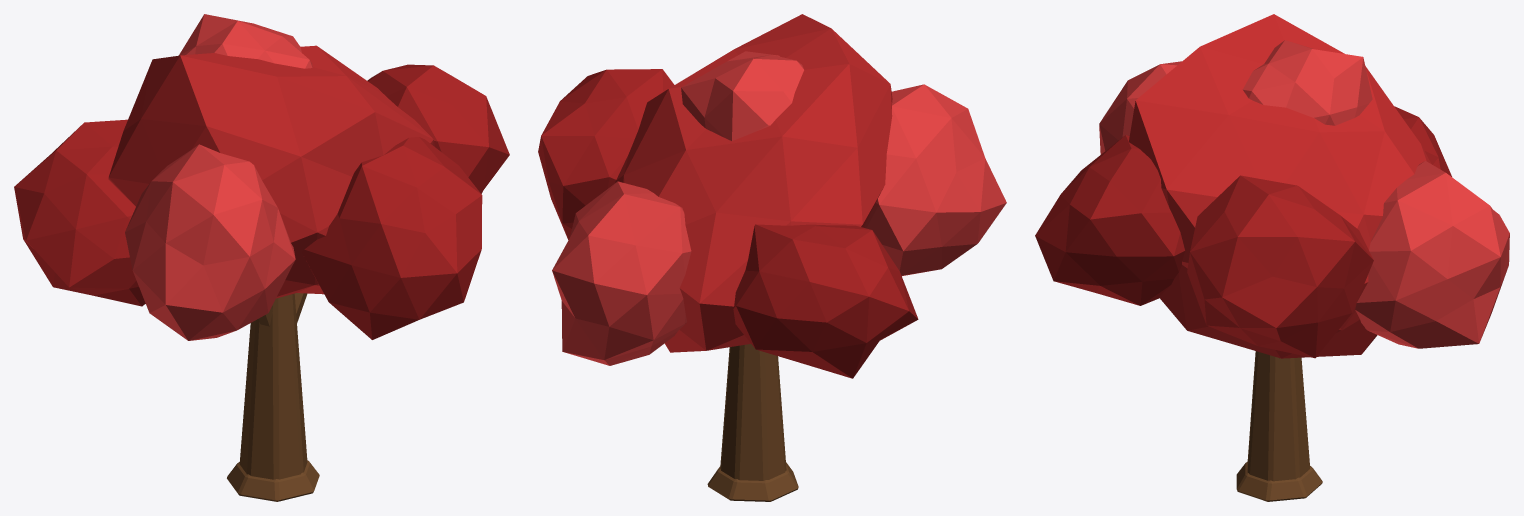
Rendered from tree_autumn_b.glb.
3 views of the same model, side by side, from view 1: azimuth 30°, elevation 25°; view 2: azimuth 150°, elevation 25°; view 3: azimuth 270°, elevation 25° (orthographic). The views are drawn at different scales.
Parts seen in each view (by area): view 1: tree_autumn_b; view 2: tree_autumn_b; view 3: tree_autumn_b.
Boxes of the visible parts, x1,y1,x2,y2 form: tree_autumn_b: [14, 14, 509, 501]; tree_autumn_b: [538, 14, 1006, 501]; tree_autumn_b: [1035, 14, 1509, 501].
Bounding box in the file's own units: 6.01 × 6.21 × 6.27.
